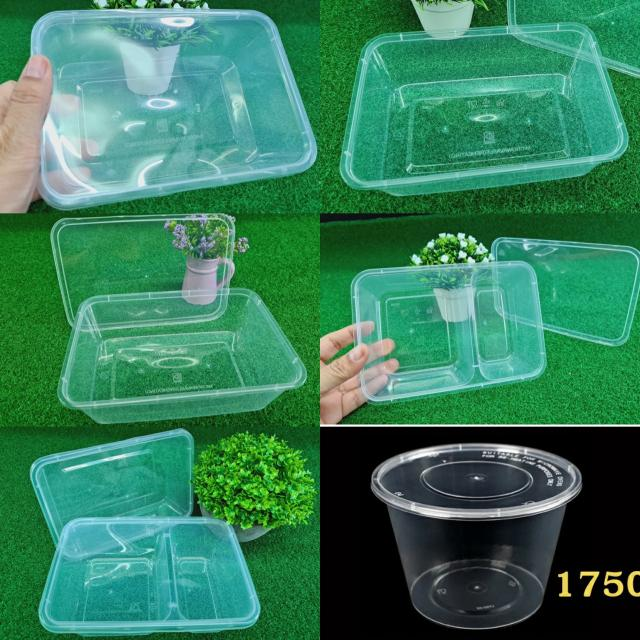Single-Use-Plastic: (31, 9, 316, 208), (340, 24, 628, 195), (372, 444, 582, 629), (58, 289, 305, 422), (352, 261, 545, 403), (39, 518, 260, 635), (51, 214, 244, 329), (30, 429, 194, 542), (492, 238, 640, 346)
